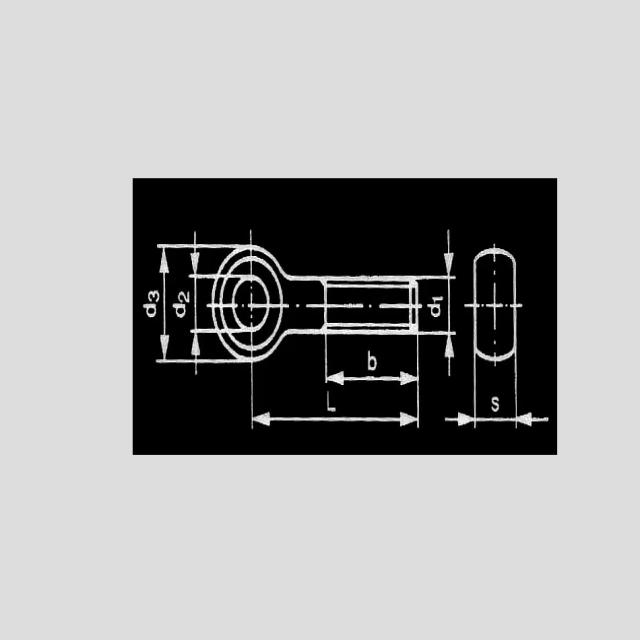marking_line: (246, 366, 421, 435), (157, 244, 215, 369), (445, 361, 550, 429), (419, 225, 458, 379), (321, 334, 423, 389), (512, 358, 548, 430), (444, 356, 479, 428), (421, 226, 456, 282), (418, 331, 458, 379), (186, 230, 213, 285), (188, 326, 214, 373)
numeric: (176, 287, 192, 303), (148, 290, 161, 302)
